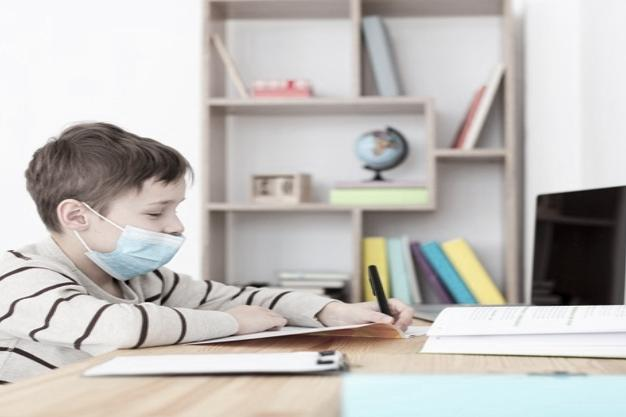mask_weared_incorrect: (28, 119, 191, 283)
